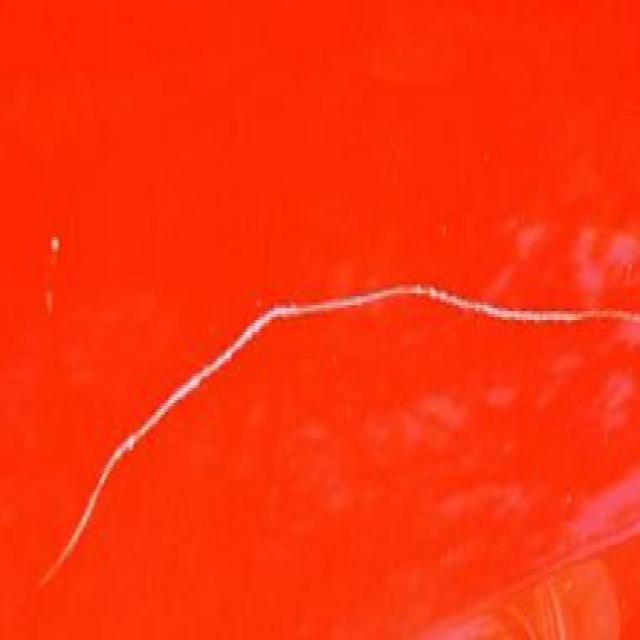scratch: (29, 268, 636, 612)
